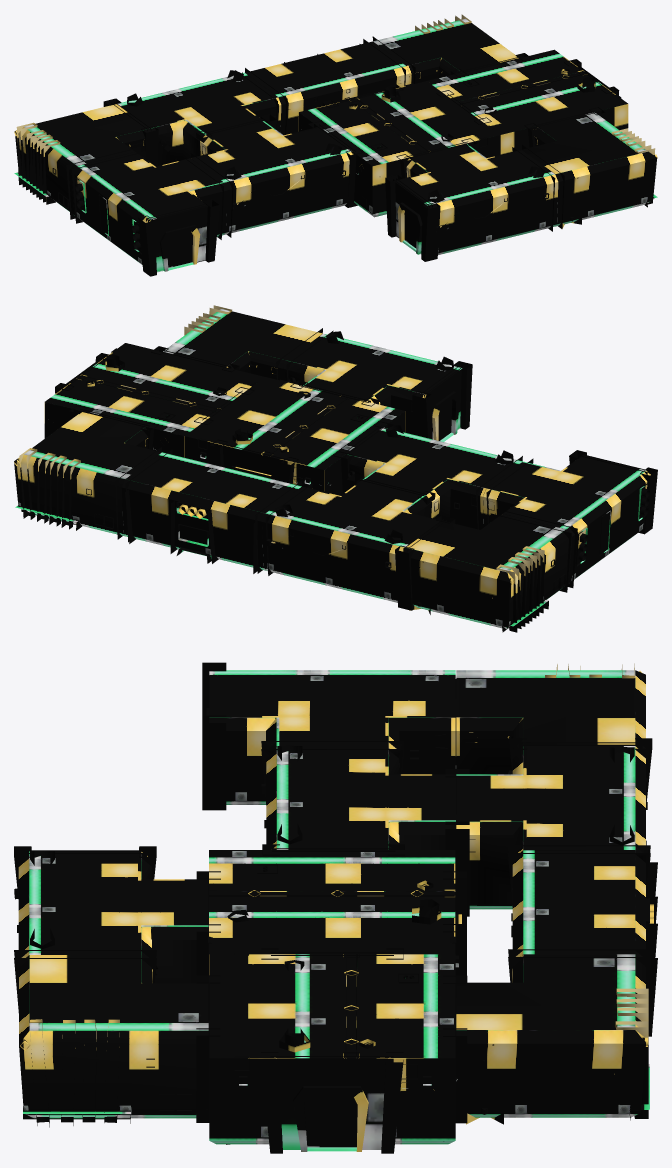
The model's file is Combined_Mesh_root_scene__1_e4e4d5ea__zombies2_diffuse_12_078cf75e_c1f257.obj.
3 renders of one model, top to bottom at view 1: azimuth 30°, elevation 25°; view 2: azimuth 150°, elevation 25°; view 3: azimuth 270°, elevation 25°, orthographic. The views are drawn at different scales.
Bounding box in the file's own units: 77.02 × 9.64 × 52.3.
Materials: 159 (159 with a texture image).
